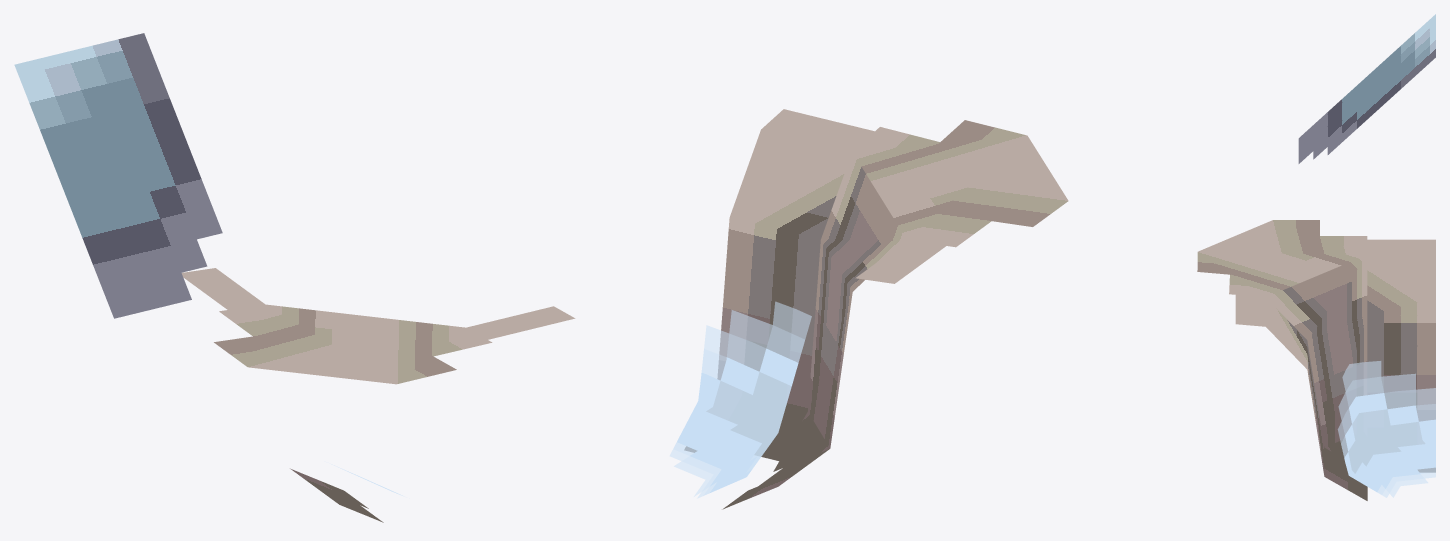
3 views of the same model, side by side, from view 1: azimuth 30°, elevation 25°; view 2: azimuth 150°, elevation 25°; view 3: azimuth 270°, elevation 25° (orthographic). The views are drawn at different scales.
Size of the model in its own units: 1 by 1.25 by 0.7236.
Materials: 3 (3 with a texture image).
